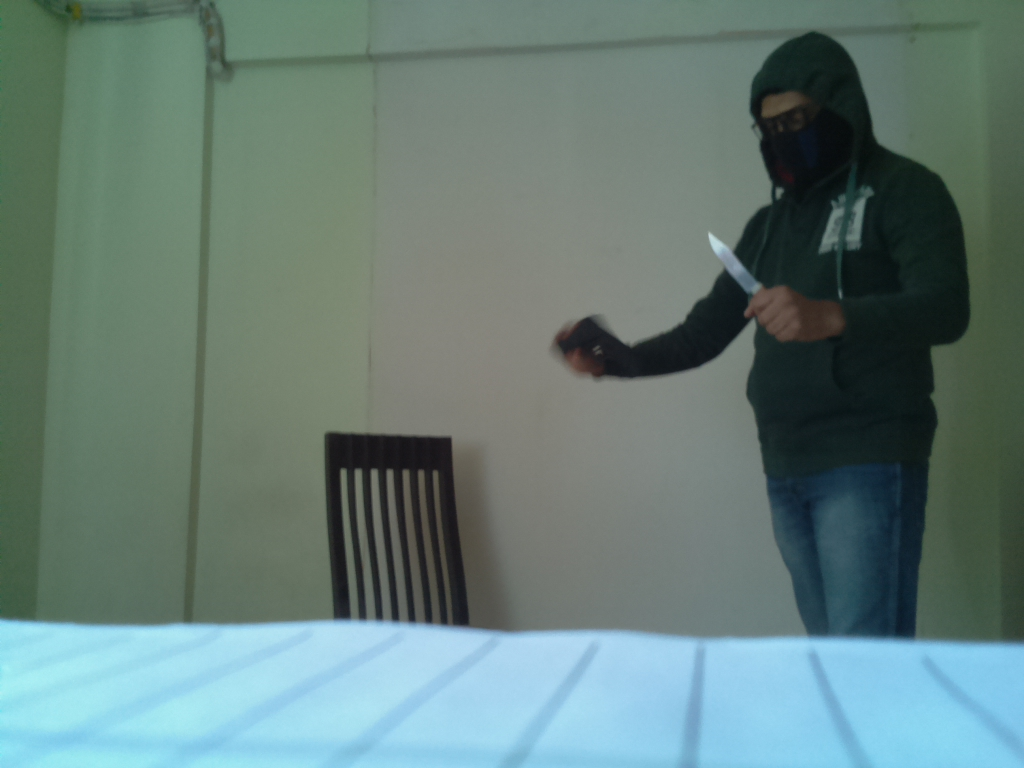knife: (704, 230, 767, 305)
